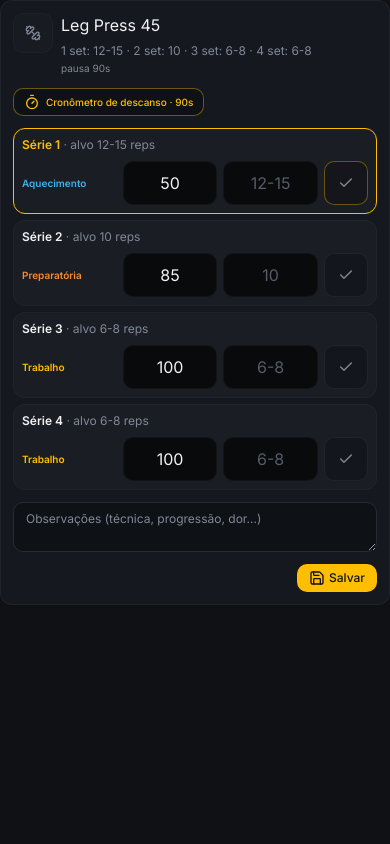
Scenario: Modo Treino admin — exercício normal no formato do grupo › reps começam vazias com a meta como placeholder; carga preenchida não libera a confirmação
Expected: the field named "Série 1 Aquecimento carga" holds "50", [123,161,217,205]
Expected: the button named "Confirmar série 1 Aquecimento" is disabled, [324,161,368,205]
Type "12" into the field named "Série 1 Aquecimento reps" at (271, 183), box [223,161,318,205]
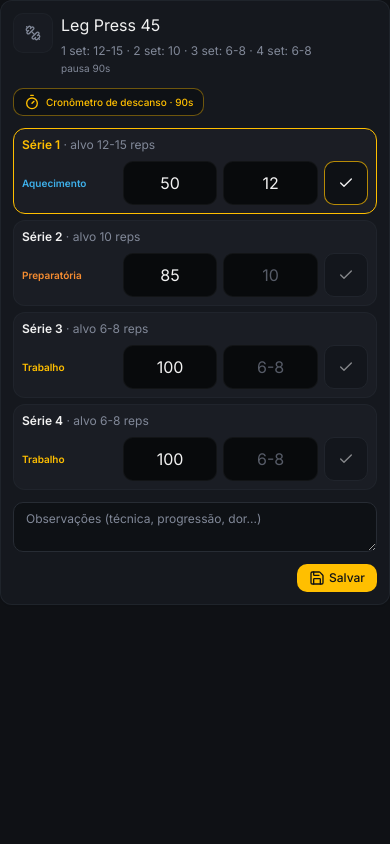
Now the button named "Confirmar série 1 Aquecimento" is enabled, box [324,161,368,205]
